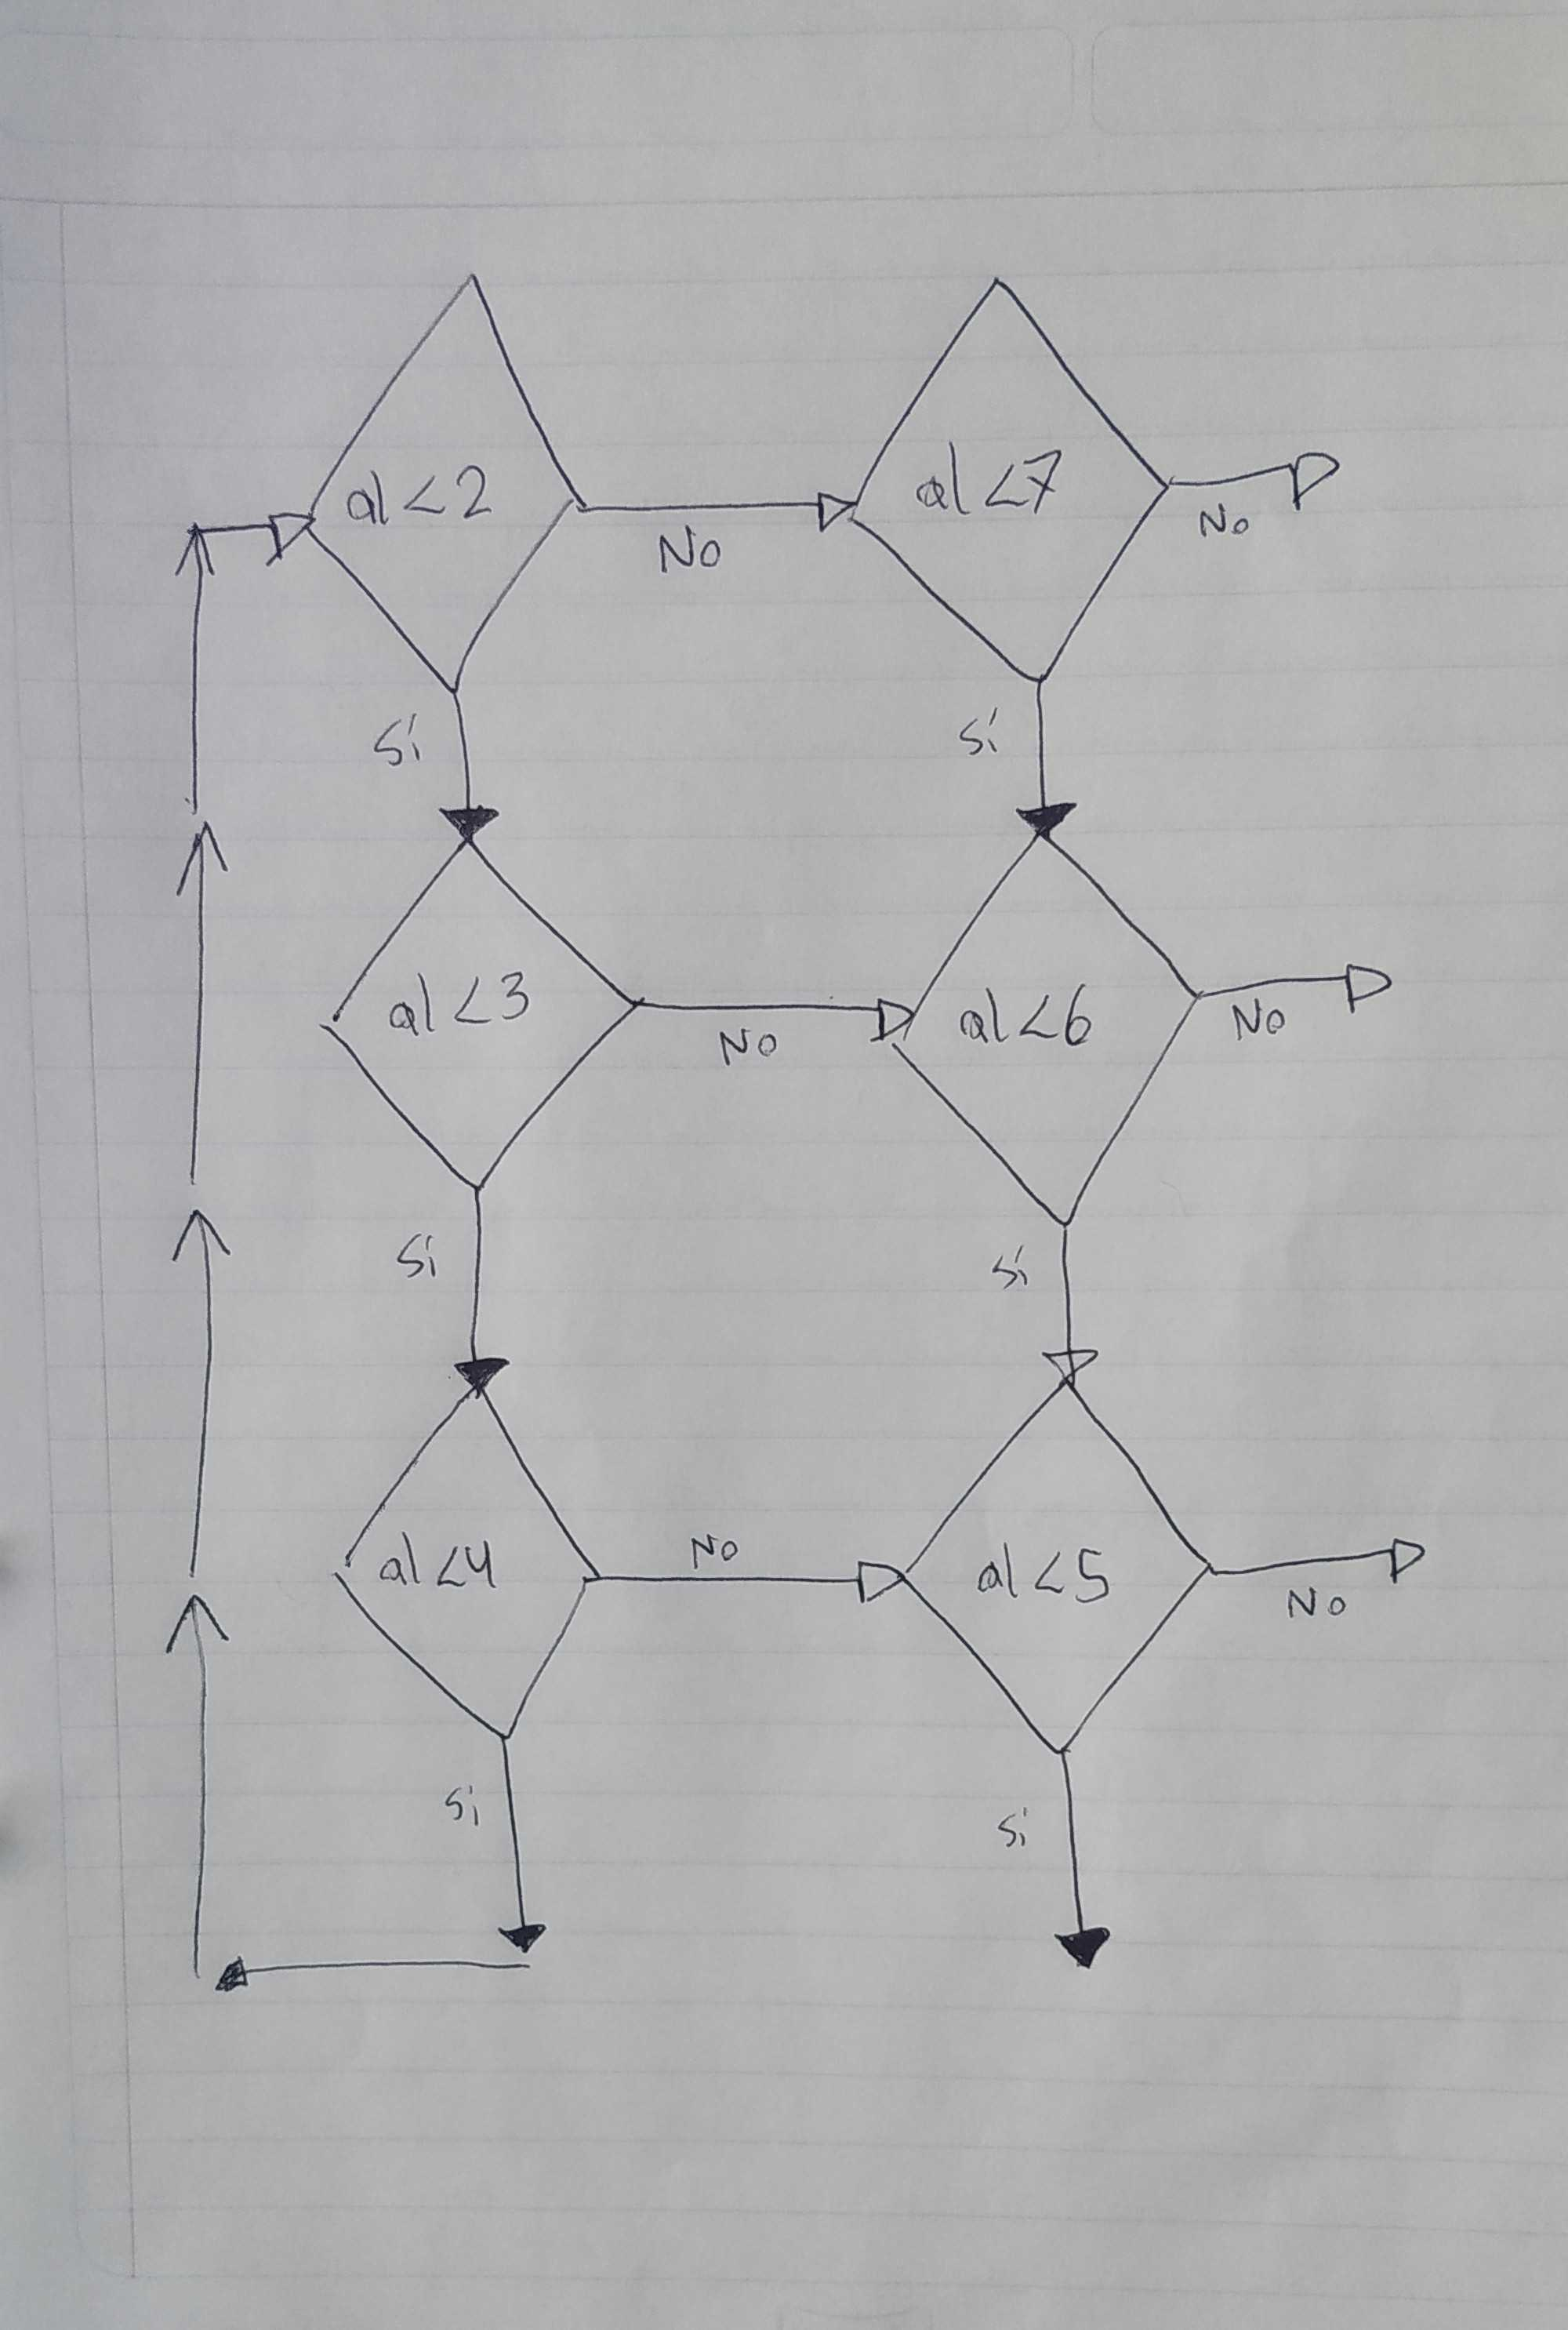arrow_line_down: (467, 1735, 563, 1968), (1038, 1745, 1123, 1978), (445, 1183, 520, 1402), (1008, 676, 1090, 853), (431, 690, 520, 853), (1031, 1222, 1113, 1386)
arrow_line_left: (212, 1938, 543, 1999)
arrow_line_right: (586, 1539, 915, 1616), (634, 970, 917, 1054), (572, 469, 856, 543), (1211, 1519, 1439, 1609), (1194, 947, 1402, 1022), (1164, 443, 1351, 520), (193, 495, 315, 569)
arrow_line_up: (157, 1199, 250, 1593), (150, 1584, 236, 1992), (161, 818, 245, 1194), (166, 516, 226, 826)
decision: (843, 263, 1176, 695), (294, 256, 592, 707), (891, 830, 1208, 1236), (900, 1371, 1225, 1765), (305, 837, 653, 1199), (317, 1385, 609, 1747)
